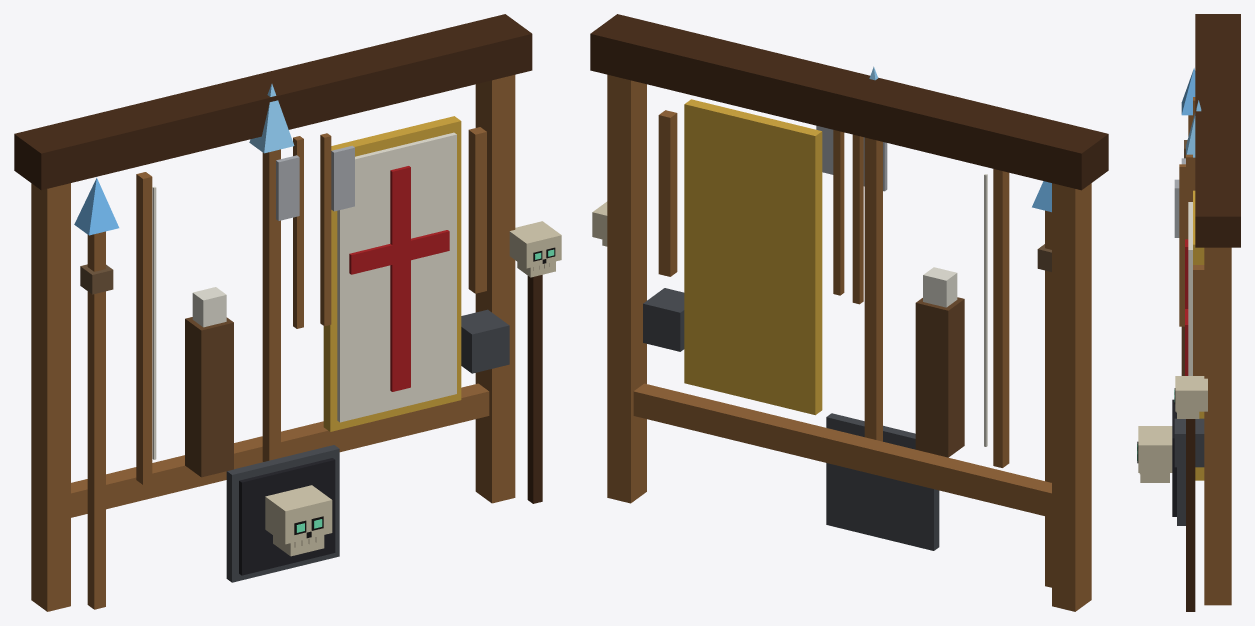
Rendered from camp_rack.glb.
3 views of the same model, side by side, from view 1: azimuth 30°, elevation 25°; view 2: azimuth 150°, elevation 25°; view 3: azimuth 270°, elevation 25° (orthographic). The views are drawn at different scales.
Visible parts, largest first — view 1: camp_rack; view 2: camp_rack; view 3: camp_rack.
Part boxes in pixels (x1=…): camp_rack: x1=14, y1=14, x2=561, y2=611; camp_rack: x1=590, y1=14, x2=1108, y2=611; camp_rack: x1=1137, y1=14, x2=1240, y2=611.
Size of the model in its own units: 2.17 by 1.95 by 0.455.
1 material, 1 textured.
